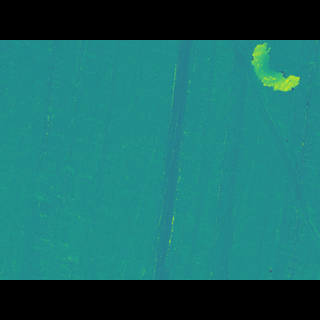Loch: (224, 69, 320, 225), (241, 70, 302, 108)
